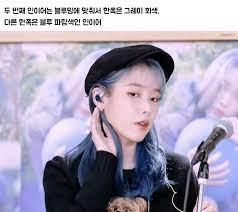earphone: (95, 94, 103, 104)
